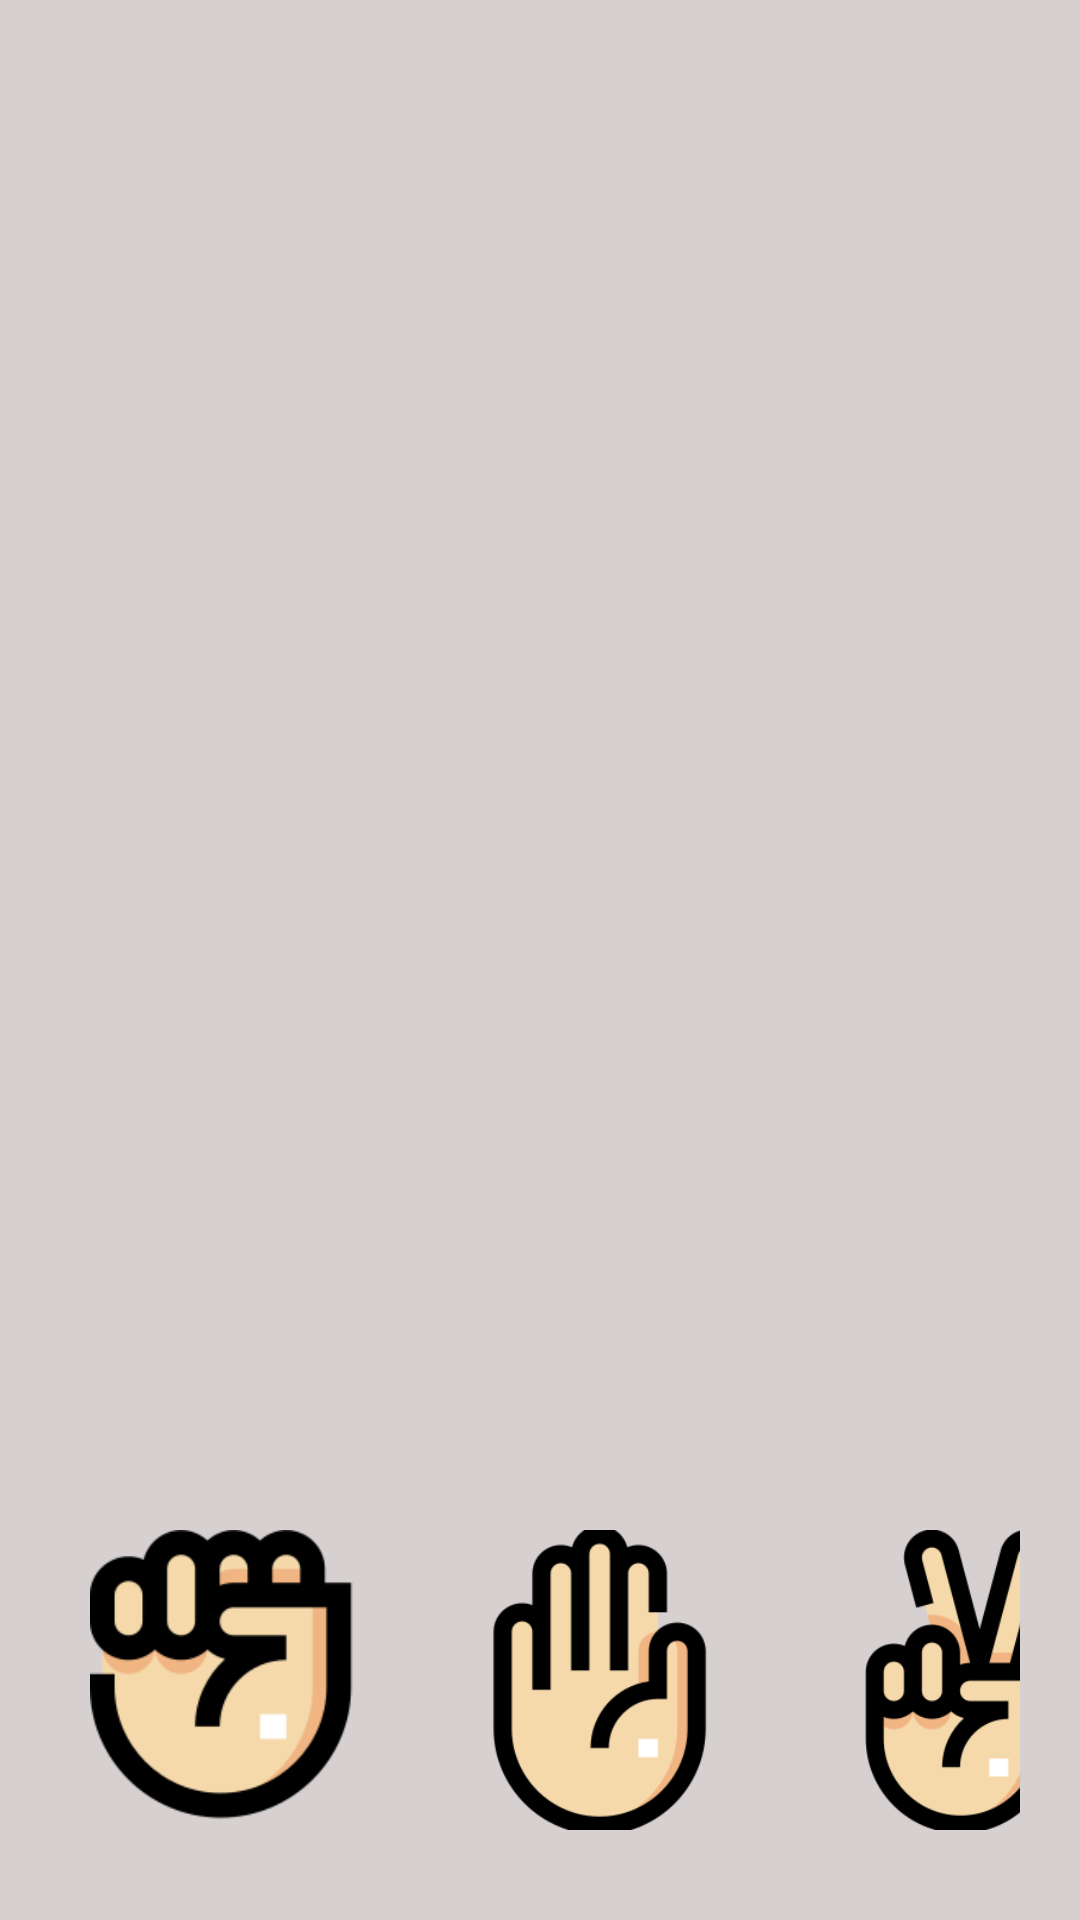

Point at icon controls on the screen. Image size 1080 x 1920, points as (x,y).
Бумага: (600,1680)
Камень: (221,1674)
